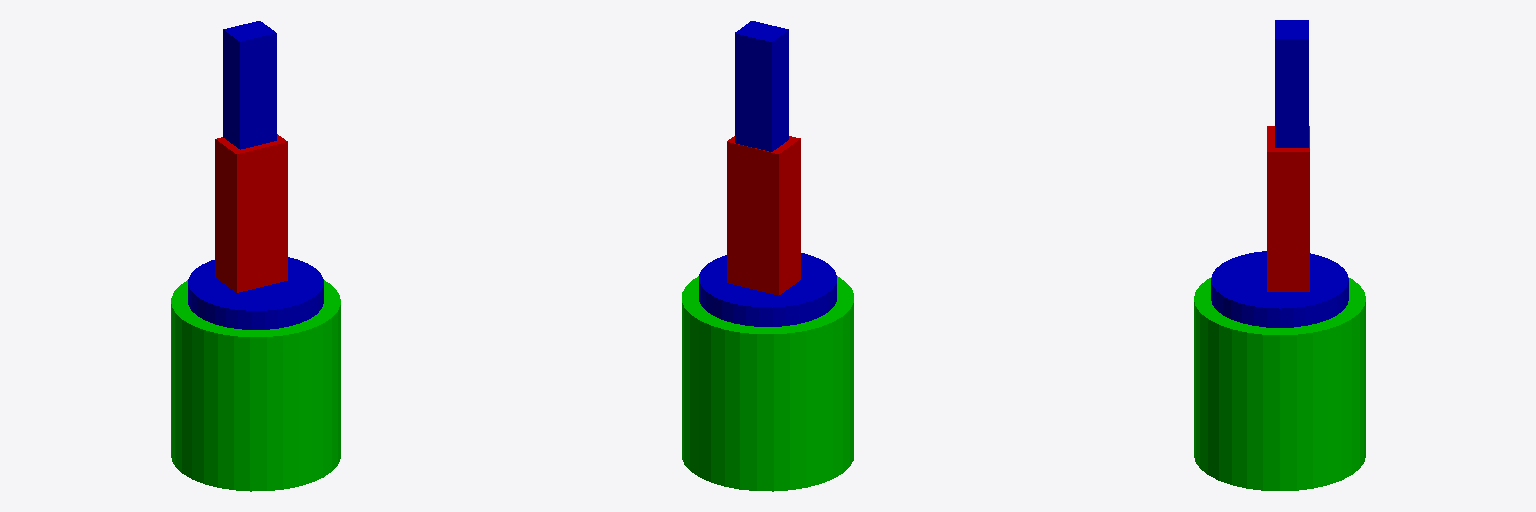
URDF robot description (arm_3dof):
<?xml version="1.0"?>
<robot name="arm_3dof">

  <!-- MATERIALS -->
  <material name="blue">
    <color rgba="0 0 0.8 1"/>
  </material>

  <material name="red">
    <color rgba="0.8 0 0 1"/>
  </material>

  <material name="green">
    <color rgba="0 0.8 0 1"/>
  </material>

  <!-- WORLD -->
  <link name="world"/>

  <joint name="fixed_base" type="fixed">
    <parent link="world"/>
    <child link="base_link"/>
  </joint>

  <!-- BASE -->
  <link name="base_link">
    <visual>
      <geometry>
        <cylinder length="0.2" radius="0.1"/>
      </geometry>
      <origin xyz="0 0 0.1"/>
      <material name="green"/>
    </visual>
  </link>

  <!-- JOINT 1 -->
  <joint name="joint_1" type="revolute">
    <parent link="base_link"/>
    <child link="link_1"/>
    <origin xyz="0 0 0.2"/>
    <axis xyz="0 0 1"/>
    <limit lower="-3.14" upper="3.14" effort="10" velocity="1"/>
  </joint>

  <!-- LINK 1 -->
  <link name="link_1">
    <visual>
      <geometry>
        <cylinder length="0.025" radius="0.08"/>
      </geometry>
      <origin xyz="0 0 0.0125"/>
      <material name="blue"/>
    </visual>
  </link>

  <!-- JOINT 2 -->
  <joint name="joint_2" type="revolute">
    <parent link="link_1"/>
    <child link="link_2"/>
    <origin xyz="0 0 0.025"/>
    <axis xyz="0 1 0"/>
    <limit lower="-1.57" upper="1.57" effort="10" velocity="1"/>
  </joint>

    <!-- LINK 2 -->
  <link name="link_2">
    <visual>
      <geometry>
        <!-- radius 0.035 → diameter 0.07 -->
        <box size="0.07 0.05 0.18"/>
      </geometry>
      <origin xyz="0 0.01 0.09"/>
      <material name="red"/>
    </visual>
  </link>

  <!-- JOINT 3 -->
  <joint name="joint_3" type="revolute">
    <parent link="link_2"/>
    <child link="link_3"/>
    <origin xyz="0 0 0.18"/>
    <axis xyz="0 1 0"/>
    <limit lower="-1.57" upper="1.57" effort="10" velocity="1"/>
  </joint>

  <!-- LINK 3 -->
  <link name="link_3">
    <visual>
      <geometry>
        <!-- radius 0.035 → diameter 0.07 -->
        <box size="0.05 0.04 0.14"/>
      </geometry>
      <origin xyz="0 0.014 0.07"/>
      <material name="blue"/>
    </visual>
  </link>


  
</robot>

--- Facts derived from the render (not from the file) ---
The picture shows the robot from 3 angles, left to right: view 1: azimuth 30°, elevation 25°; view 2: azimuth 150°, elevation 25°; view 3: azimuth 270°, elevation 25°; orthographic projection.
Robot: arm_3dof — 5 links, 4 joints (3 revolute, 1 fixed); root link world; default pose: every joint at zero.
Visible links, largest first — view 1: base_link, link_2, link_1, link_3; view 2: base_link, link_2, link_3, link_1; view 3: base_link, link_1, link_2, link_3.
Boxes of the visible links, <box> form: base_link: <box>171,280,340,491</box>; link_2: <box>215,134,287,292</box>; link_1: <box>188,257,323,329</box>; link_3: <box>223,21,276,149</box>; base_link: <box>682,276,853,491</box>; link_2: <box>727,136,800,295</box>; link_3: <box>735,21,788,151</box>; link_1: <box>699,253,836,326</box>; base_link: <box>1194,277,1365,490</box>; link_1: <box>1211,251,1348,327</box>; link_2: <box>1267,126,1309,291</box>; link_3: <box>1275,20,1308,147</box>.
Size in the robot's own frame: 0.2 by 0.2 by 0.545 metres.
Geometry: primitives only (box / cylinder / sphere), no mesh files.
